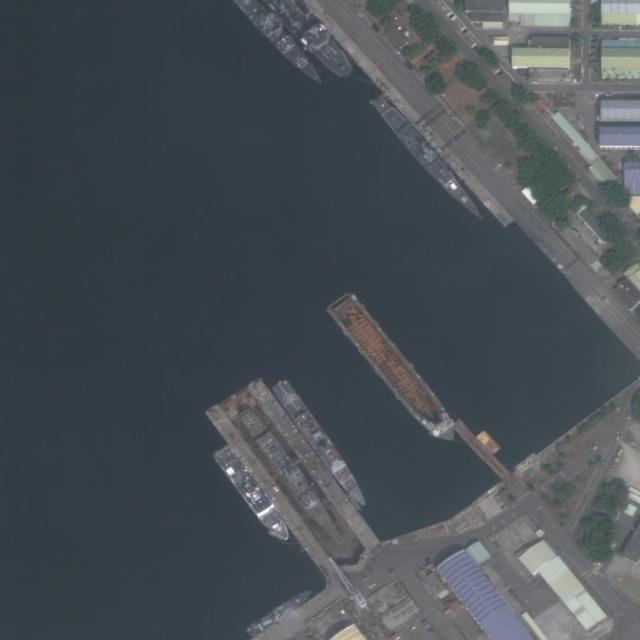Cargo: (321, 286, 467, 451)
Destroyer: (371, 94, 488, 226)
Frigate: (270, 377, 372, 508)
Other Warship: (239, 407, 346, 547), (211, 444, 294, 547)
